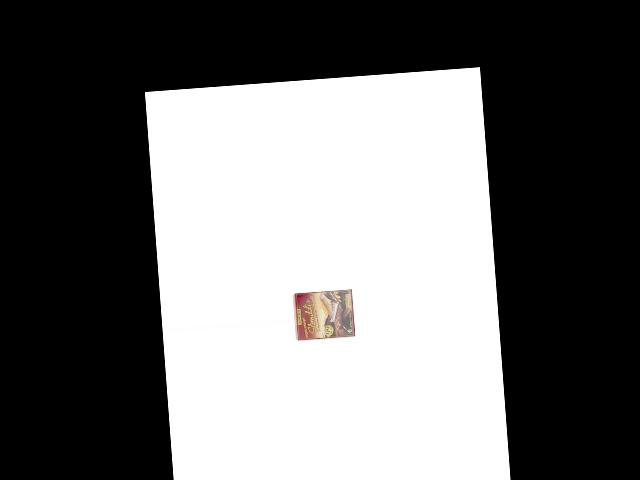chocolate: (292, 289, 355, 340)
